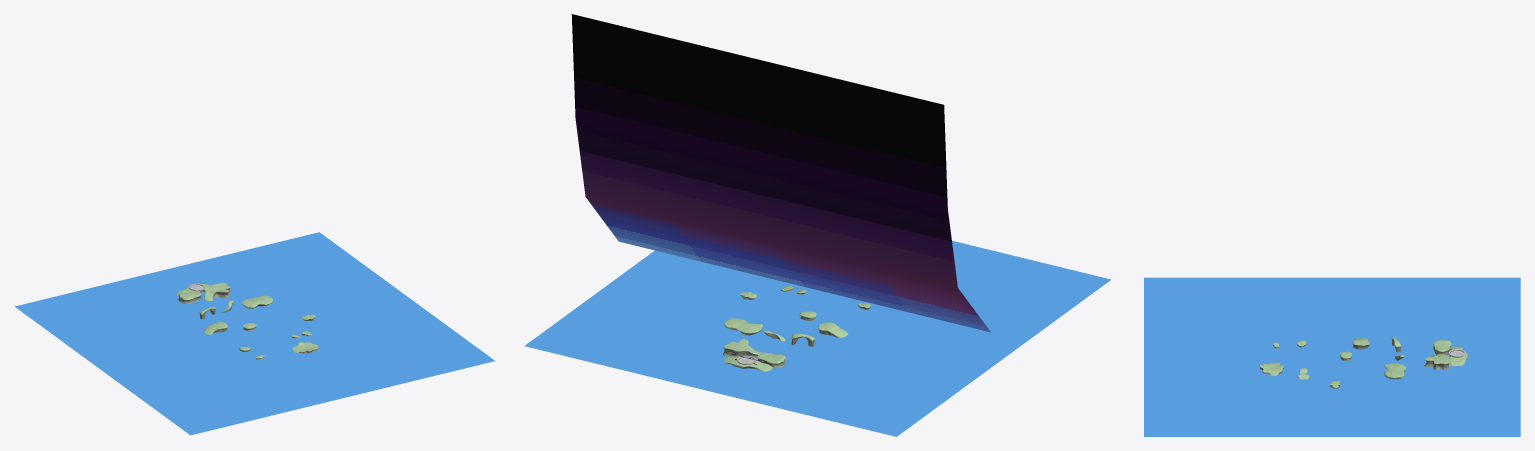
File: art.glb
3 renders of one model, left to right at view 1: azimuth 30°, elevation 25°; view 2: azimuth 150°, elevation 25°; view 3: azimuth 270°, elevation 25°, orthographic. The views are drawn at different scales.
Parts seen in each view (by area): view 1: sea; view 2: sky, sea; view 3: sea.
Part boxes in pixels (bbox=[...]): sea: bbox=[14, 232, 494, 435]; sky: bbox=[571, 14, 990, 332]; sea: bbox=[524, 240, 1110, 436]; sea: bbox=[1144, 277, 1520, 436].
Bounding box in the file's own units: 504 × 388 × 501.
6 materials, 5 textured.
